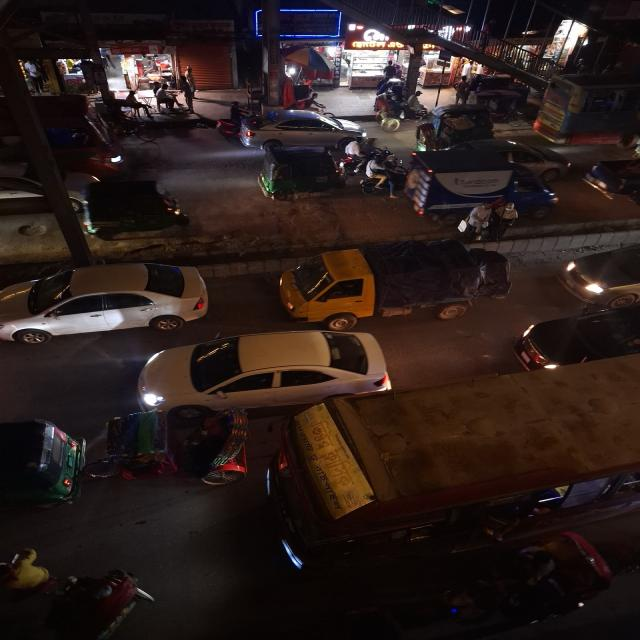bus: (266, 413, 516, 574), (531, 71, 640, 147)
car: (2, 259, 215, 347), (184, 328, 394, 402), (505, 288, 639, 374), (555, 239, 640, 301), (241, 108, 367, 142)
cng: (0, 414, 91, 512), (78, 178, 196, 243), (252, 146, 345, 206)
motorcycle: (357, 148, 398, 198), (369, 92, 407, 132)
pedestrian: (464, 202, 492, 237), (496, 203, 522, 236)
pickup_van: (273, 240, 514, 328)
rickshaw: (100, 408, 254, 477)
truck: (403, 141, 533, 234)
